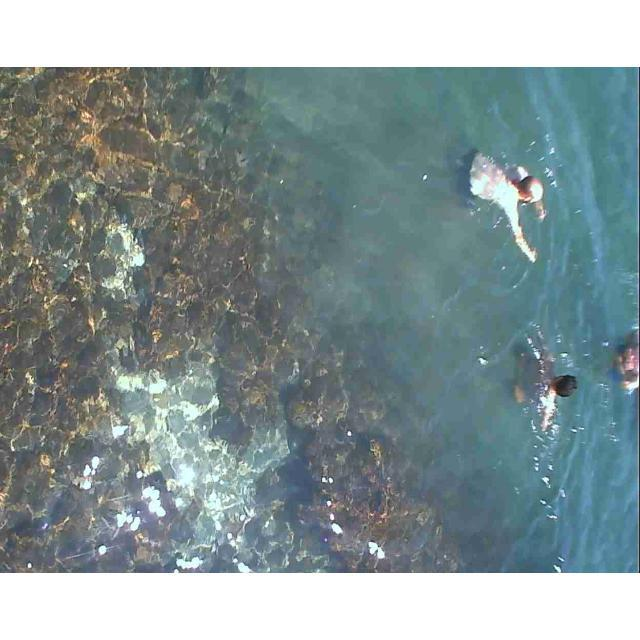human: (456, 137, 543, 267), (514, 320, 571, 432), (615, 326, 639, 400)
